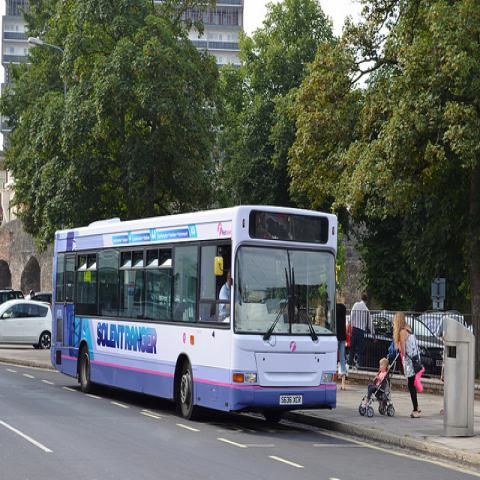bus: (49, 204, 339, 426)
car: (363, 314, 443, 376), (0, 299, 53, 349), (416, 309, 474, 341), (25, 292, 52, 306), (345, 314, 352, 356)
